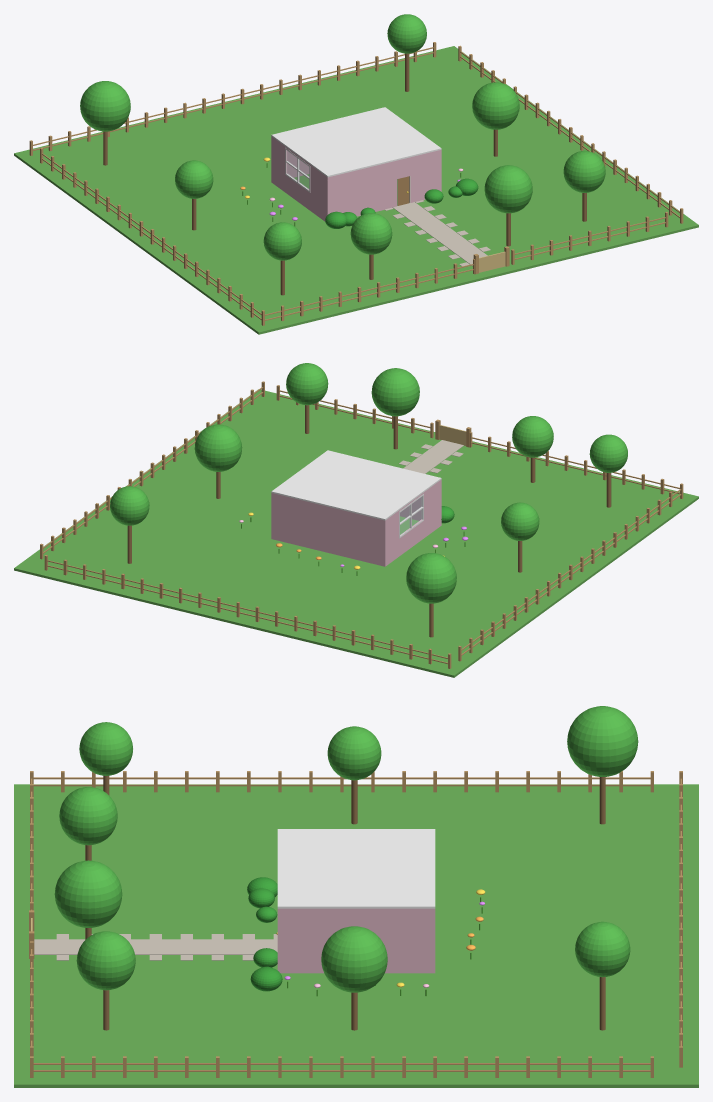
Rendered from rumah.fbx.
The picture shows the model from 3 angles, top to bottom: view 1: azimuth 30°, elevation 25°; view 2: azimuth 150°, elevation 25°; view 3: azimuth 270°, elevation 25°; orthographic projection. The views are drawn at different scales.
Parts seen in each view (by area): view 1: Garden_Ground, Ceiling, Wall_Front_Left, Tree_Leaves_BL, Tree_Leaves_FC, Tree_Leaves_MR, Garden_Path, Tree_Leaves_FR, Tree_Leaves_FB, Wall_Front_Right, Tree_Leaves_BR, Tree_Leaves_ML (+2 smaller); view 2: Garden_Ground, Ceiling, Wall_Back, Tree_Leaves_BL, Tree_Leaves_FC, Tree_Leaves_MR, Tree_Leaves_FR, Tree_Leaves_FB, Tree_Leaves_BR, Tree_Leaves_ML, Tree_Leaves_FL, Wall_Left_Bot (+1 smaller); view 3: Garden_Ground, Ceiling, Wall_Right, Tree_Leaves_BL, Tree_Leaves_FC, Tree_Leaves_MR, Garden_Path, Tree_Leaves_FR, Tree_Leaves_FB, Tree_Leaves_BR, Tree_Leaves_ML, Tree_Leaves_FL (+1 smaller).
Part boxes in pixels (x1,y1,x2,y2): Garden_Ground: [14, 46, 698, 334]; Ceiling: [271, 107, 441, 177]; Wall_Front_Left: [329, 160, 396, 216]; Tree_Leaves_BL: [80, 81, 130, 131]; Tree_Leaves_FC: [484, 165, 532, 213]; Tree_Leaves_MR: [472, 82, 519, 129]; Garden_Path: [392, 202, 487, 266]; Tree_Leaves_FR: [563, 150, 605, 192]; Tree_Leaves_FB: [350, 213, 392, 254]; Wall_Front_Right: [410, 150, 439, 202]; Tree_Leaves_BR: [387, 14, 426, 53]; Tree_Leaves_ML: [175, 160, 213, 198]; Garden_Ground: [14, 389, 698, 677]; Ceiling: [271, 450, 441, 520]; Wall_Back: [273, 493, 385, 566]; Tree_Leaves_BL: [406, 553, 456, 603]; Tree_Leaves_FC: [371, 368, 419, 416]; Tree_Leaves_MR: [194, 424, 242, 471]; Tree_Leaves_FR: [286, 363, 328, 405]; Tree_Leaves_FB: [512, 416, 553, 457]; Tree_Leaves_BR: [110, 486, 149, 525]; Tree_Leaves_ML: [501, 502, 539, 540]; Tree_Leaves_FL: [589, 434, 627, 472]; Wall_Left_Bot: [384, 506, 441, 566]; Garden_Ground: [14, 784, 698, 1087]; Ceiling: [277, 829, 435, 908]; Wall_Right: [277, 908, 435, 973]; Tree_Leaves_BL: [567, 706, 638, 776]; Tree_Leaves_FC: [54, 860, 122, 927]; Tree_Leaves_MR: [321, 926, 387, 992]; Garden_Path: [34, 939, 277, 954]; Tree_Leaves_FR: [76, 931, 135, 990]; Tree_Leaves_FB: [59, 787, 117, 845]; Tree_Leaves_BR: [575, 921, 630, 977]; Tree_Leaves_ML: [327, 726, 381, 780]; Tree_Leaves_FL: [79, 722, 132, 775].
Bounding box in the file's own units: 8023 × 1457 × 7727.
